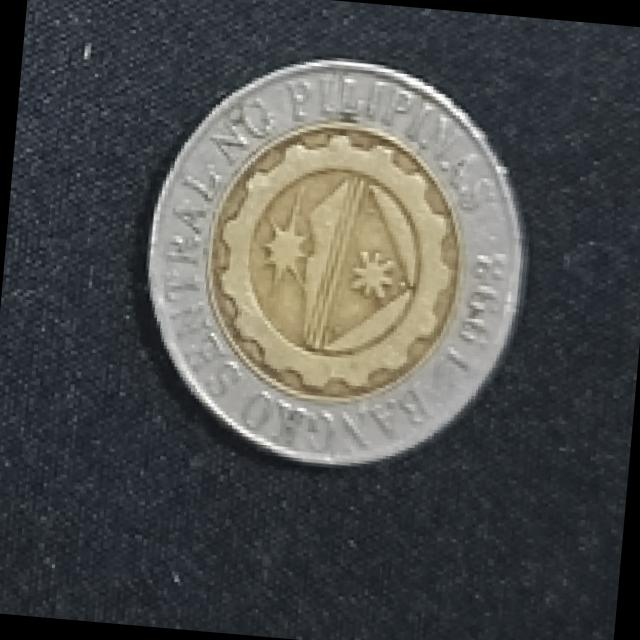10_peso: (152, 64, 520, 460)
